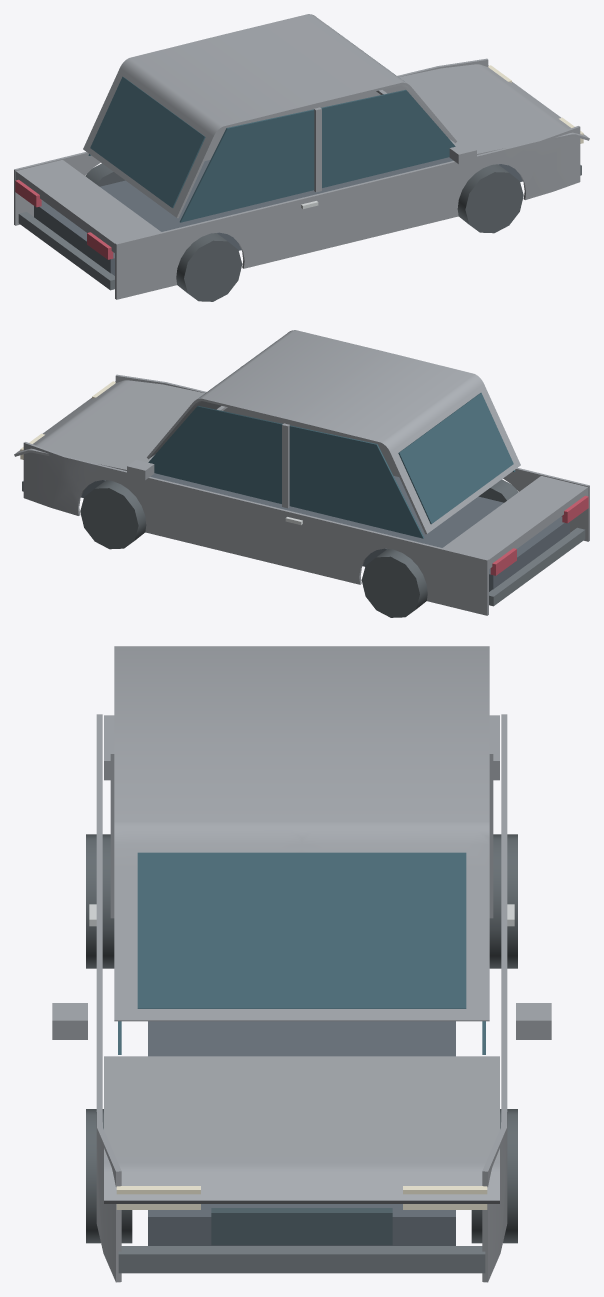
3 views of the same model, one above another, from view 1: azimuth 30°, elevation 25°; view 2: azimuth 150°, elevation 25°; view 3: azimuth 270°, elevation 25° (orthographic). The views are drawn at different scales.
Parts seen in each view (by area): view 1: arched_fender_right, side_glass_right, rear_roof_fold, front_roof_fold, bent_hood, rear_windshield, rear_deck, underbody, wheel_rear_right, wheel_front_right, arched_fender_left, rear_bumper (+5 smaller); view 2: arched_fender_left, side_glass_left, rear_roof_fold, front_roof_fold, bent_hood, rear_windshield, rear_deck, underbody, wheel_rear_left, wheel_front_left, arched_fender_right, rear_bumper (+5 smaller); view 3: front_roof_fold, bent_hood, front_windshield, rear_roof_fold, underbody, front_bumper, front_grille, arched_fender_left, arched_fender_right, wheel_rear_left, wheel_rear_right, wheel_front_left (+8 smaller).
Part boxes in pixels (left/top/right/bottom): arched_fender_right: left=115, top=126, right=580, bottom=299; side_glass_right: left=179, top=89, right=455, bottom=222; rear_roof_fold: left=83, top=35, right=312, bottom=218; front_roof_fold: left=219, top=14, right=456, bottom=143; bent_hood: left=376, top=64, right=589, bottom=154; rear_windshield: left=90, top=76, right=205, bottom=208; rear_deck: left=15, top=160, right=160, bottom=252; underbody: left=34, top=157, right=522, bottom=275; wheel_rear_right: left=176, top=233, right=242, bottom=301; wheel_front_right: left=457, top=164, right=523, bottom=233; arched_fender_left: left=14, top=58, right=488, bottom=225; rear_bumper: left=18, top=211, right=114, bottom=290; arched_fender_left: left=23, top=442, right=488, bottom=615; side_glass_left: left=148, top=405, right=424, bottom=538; rear_roof_fold: left=291, top=351, right=520, bottom=534; front_roof_fold: left=147, top=330, right=384, bottom=459; bent_hood: left=14, top=380, right=227, bottom=470; rear_windshield: left=398, top=392, right=513, bottom=524; rear_deck: left=443, top=476, right=588, bottom=568; underbody: left=81, top=473, right=569, bottom=591; wheel_rear_left: left=361, top=549, right=427, bottom=617; wheel_front_left: left=80, top=480, right=146, bottom=549; arched_fender_right: left=115, top=374, right=589, bottom=541; rear_bumper: left=489, top=527, right=585, bottom=606; front_roof_fold: left=114, top=734, right=489, bottom=1021; bent_hood: left=104, top=1056, right=499, bottom=1203; front_windshield: left=137, top=852, right=466, bottom=1008; rear_roof_fold: left=114, top=646, right=489, bottom=734; underbody: left=148, top=1021, right=455, bottom=1245; front_bumper: left=118, top=1246, right=485, bottom=1273; front_grille: left=211, top=1208, right=392, bottom=1245; arched_fender_left: left=482, top=714, right=507, bottom=1282; arched_fender_right: left=96, top=714, right=121, bottom=1282; wheel_rear_left: left=489, top=834, right=517, bottom=968; wheel_rear_right: left=86, top=834, right=114, bottom=968; wheel_front_left: left=471, top=1109, right=517, bottom=1243.
Bounding box in the file's own units: 5.25 × 1.74 × 2.37.
